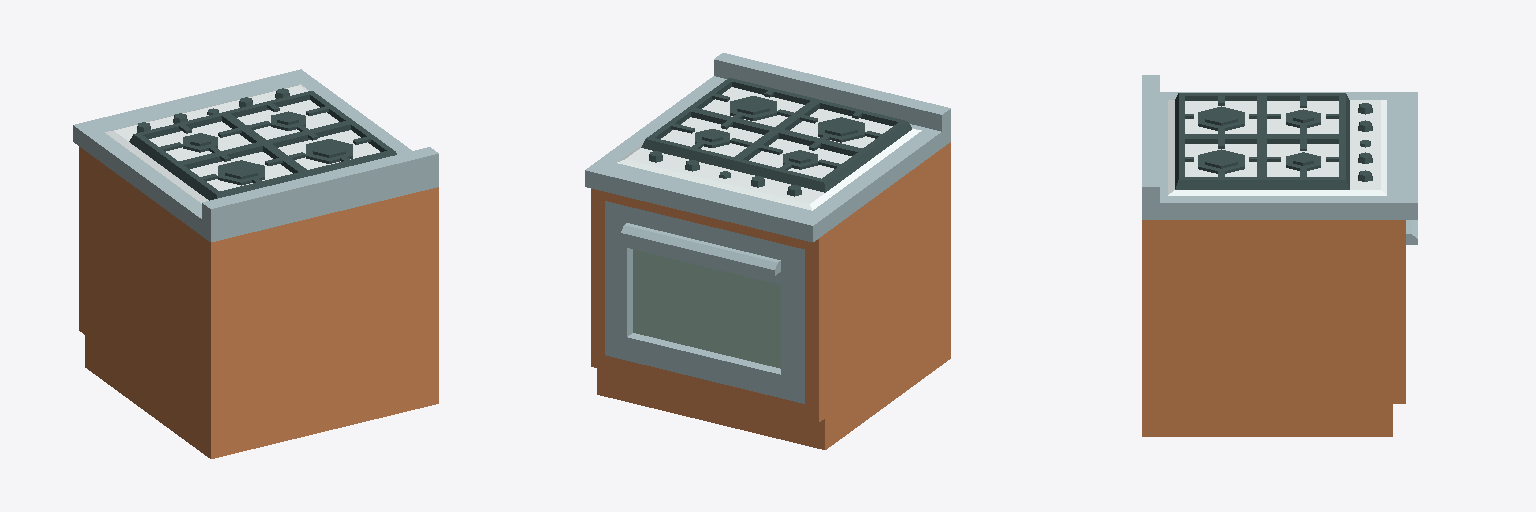
The model's file is kitchenStove.obj.
3 views of the same model, side by side, from view 1: azimuth 30°, elevation 25°; view 2: azimuth 150°, elevation 25°; view 3: azimuth 270°, elevation 25° (orthographic).
Visible parts, largest first — view 1: kitchenStove; view 2: kitchenStove, door; view 3: kitchenStove.
Boxes of the visible parts, <box> form: kitchenStove: <box>73,69,438,458</box>; kitchenStove: <box>585,53,950,449</box>; door: <box>605,201,804,403</box>; kitchenStove: <box>1142,75,1417,436</box>.
Bounding box in the file's own units: 0.43 × 0.45 × 0.45.